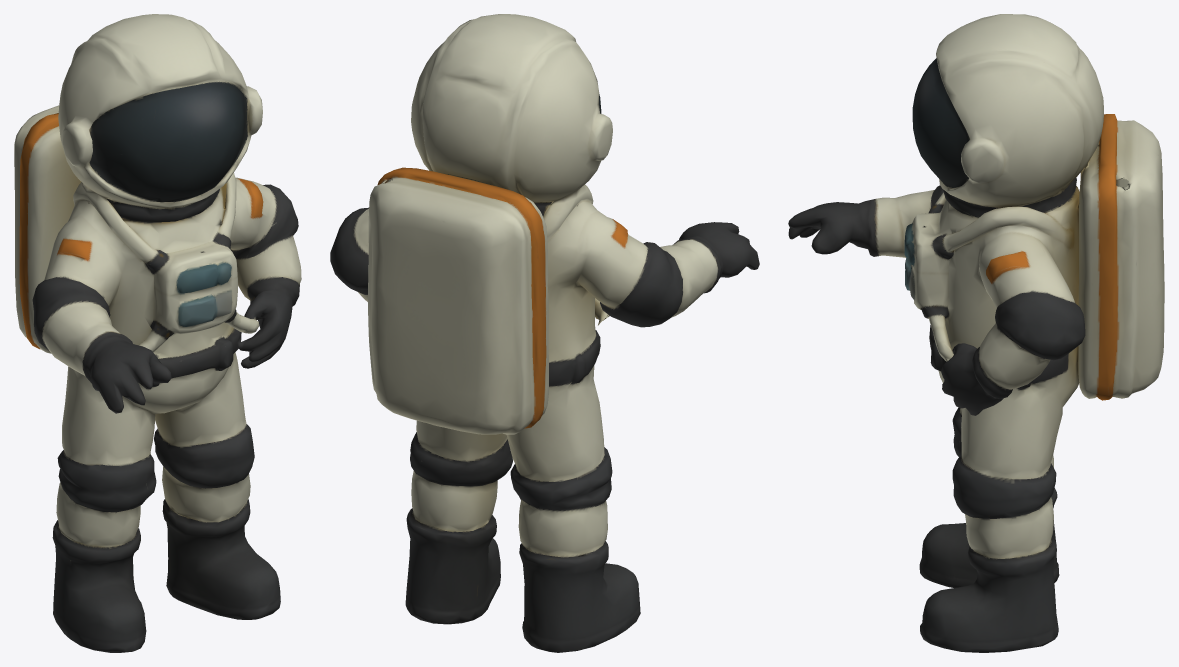
The model's file is figura-ukazyvaet.glb.
3 views of the same model, side by side, from view 1: azimuth 30°, elevation 25°; view 2: azimuth 150°, elevation 25°; view 3: azimuth 270°, elevation 25° (orthographic). The views are drawn at different scales.
Visible parts, largest first — view 1: geometry_0; view 2: geometry_0; view 3: geometry_0.
Part boxes in pixels (x1=…): geometry_0: x1=14, y1=14, x2=301, y2=652; geometry_0: x1=330, y1=14, x2=759, y2=652; geometry_0: x1=788, y1=14, x2=1164, y2=652.
Bounding box in the file's own units: 0.5375 × 1 × 0.5861.
Materials: 1 (1 with a texture image).
